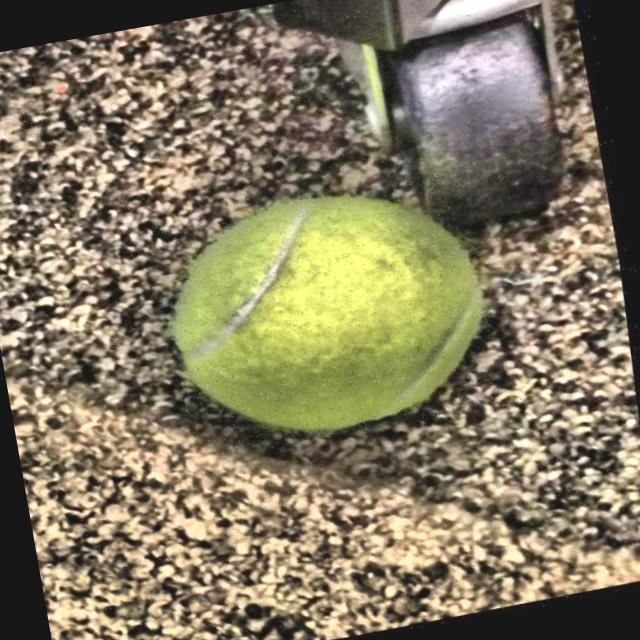Tennis Ball: (140, 162, 521, 470)
